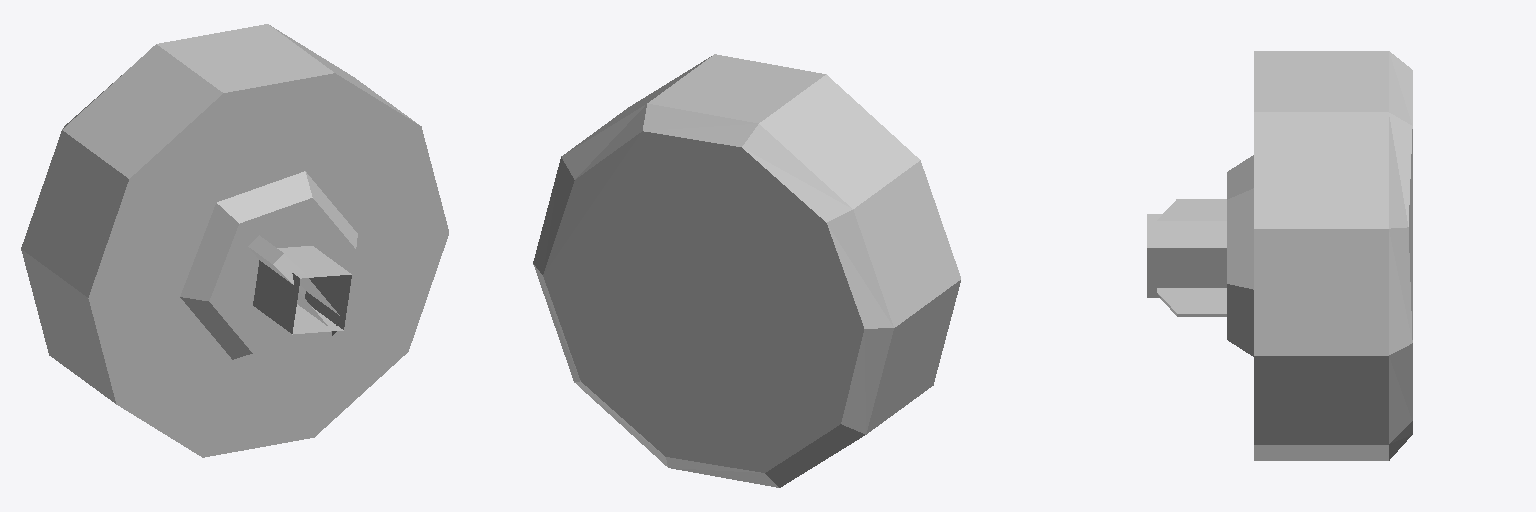
File: wheel58.obj
The picture shows the model from 3 angles: view 1: azimuth 30°, elevation 25°; view 2: azimuth 150°, elevation 25°; view 3: azimuth 270°, elevation 25°; orthographic projection.
Visible parts, largest first — view 1: wheel_low_textures; view 2: wheel_low_textures; view 3: wheel_low_textures.
Boxes of the visible parts, box(x1,y1,x2,y2) form: wheel_low_textures: box(21, 24, 448, 457); wheel_low_textures: box(533, 54, 960, 487); wheel_low_textures: box(1147, 51, 1412, 460).
Size of the model in its own units: 1.56 by 1.51 by 0.9907.